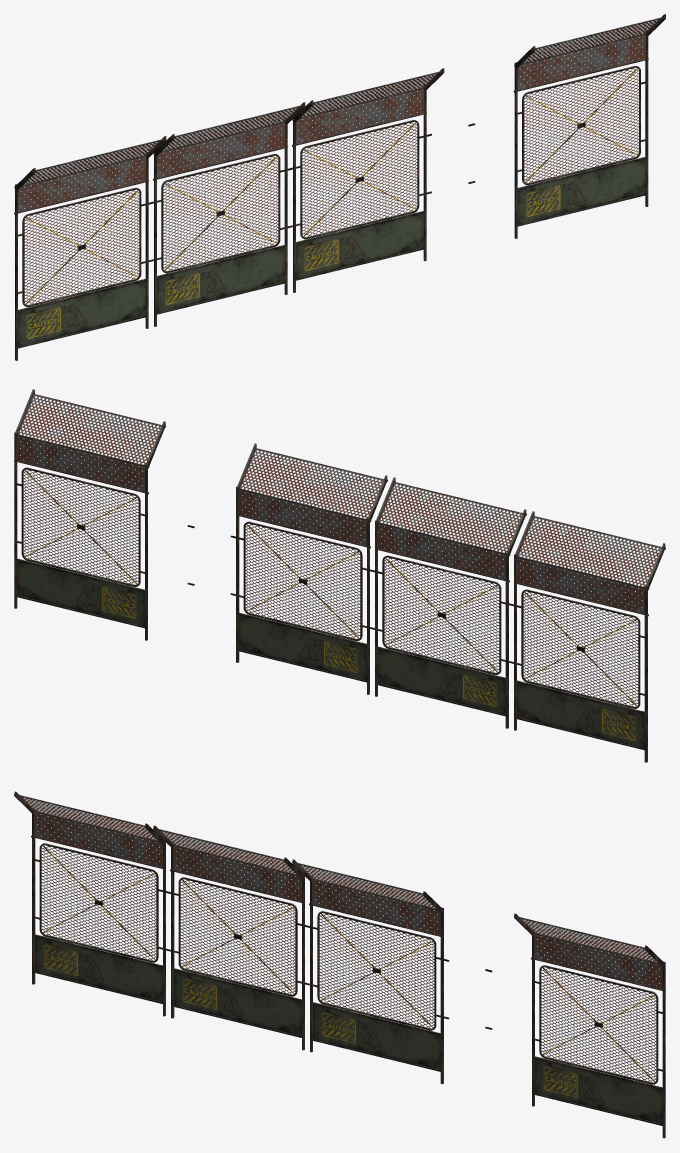
The model's file is fence.glb.
The picture shows the model from 3 angles, top to bottom: view 1: azimuth 30°, elevation 25°; view 2: azimuth 150°, elevation 25°; view 3: azimuth 330°, elevation 25°; orthographic projection.
Visible parts, largest first — view 1: 02_4_01_0, 02_3_01_0, 02_01_0, 02_2_01_0, 02_4_02_0, 02_3_02_0, 02_2_02_0, 02_02_0; view 2: 02_2_01_0, 02_3_01_0, 02_01_0, 02_4_01_0, 02_02_0, 02_2_02_0, 02_3_02_0, 02_4_02_0; view 3: 02_01_0, 02_2_01_0, 02_3_01_0, 02_4_01_0, 02_3_02_0, 02_2_02_0, 02_02_0, 02_4_02_0.
Part boxes in pixels (left/top/right/bottom): 02_4_01_0: left=517, top=19, right=660, bottom=183; 02_3_01_0: left=296, top=73, right=438, bottom=237; 02_01_0: left=157, top=107, right=299, bottom=271; 02_2_01_0: left=18, top=141, right=160, bottom=305; 02_4_02_0: left=513, top=14, right=665, bottom=238; 02_3_02_0: left=292, top=68, right=444, bottom=292; 02_2_02_0: left=14, top=136, right=166, bottom=360; 02_02_0: left=153, top=102, right=305, bottom=326; 02_2_01_0: left=516, top=516, right=661, bottom=707; 02_3_01_0: left=238, top=449, right=383, bottom=639; 02_01_0: left=377, top=482, right=522, bottom=673; 02_4_01_0: left=16, top=394, right=161, bottom=585; 02_02_0: left=369, top=477, right=526, bottom=728; 02_2_02_0: left=508, top=511, right=665, bottom=762; 02_3_02_0: left=230, top=443, right=387, bottom=694; 02_4_02_0: left=14, top=389, right=165, bottom=640; 02_01_0: left=159, top=830, right=301, bottom=994; 02_2_01_0: left=20, top=796, right=162, bottom=960; 02_3_01_0: left=298, top=864, right=440, bottom=1028; 02_4_01_0: left=519, top=918, right=662, bottom=1082; 02_3_02_0: left=292, top=859, right=449, bottom=1084; 02_2_02_0: left=14, top=791, right=170, bottom=1016; 02_02_0: left=153, top=825, right=309, bottom=1050; 02_4_02_0: left=514, top=913, right=665, bottom=1138.
Bounding box in the file's own units: 17.56 × 5.44 × 0.8944.
2 materials, 2 textured.
